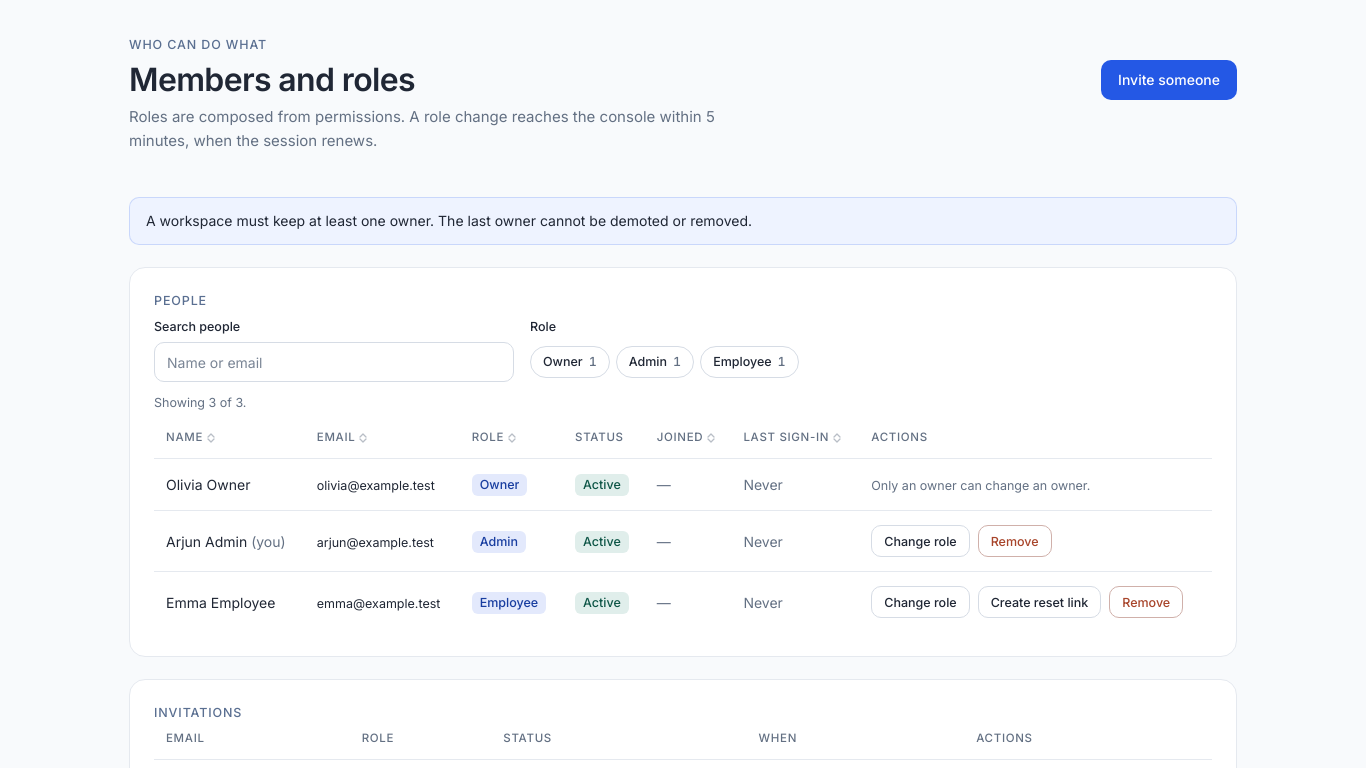
Test: Members as an administrator › says removal can be undone by inviting them again, and that their schedules pause
Expected: the text "Olivia Owner" is shown, 166,476 -> 250,493
Click the button with aria-label "Remove Emma Employee".
click(1146, 602)  # box 1109,586 -> 1183,618
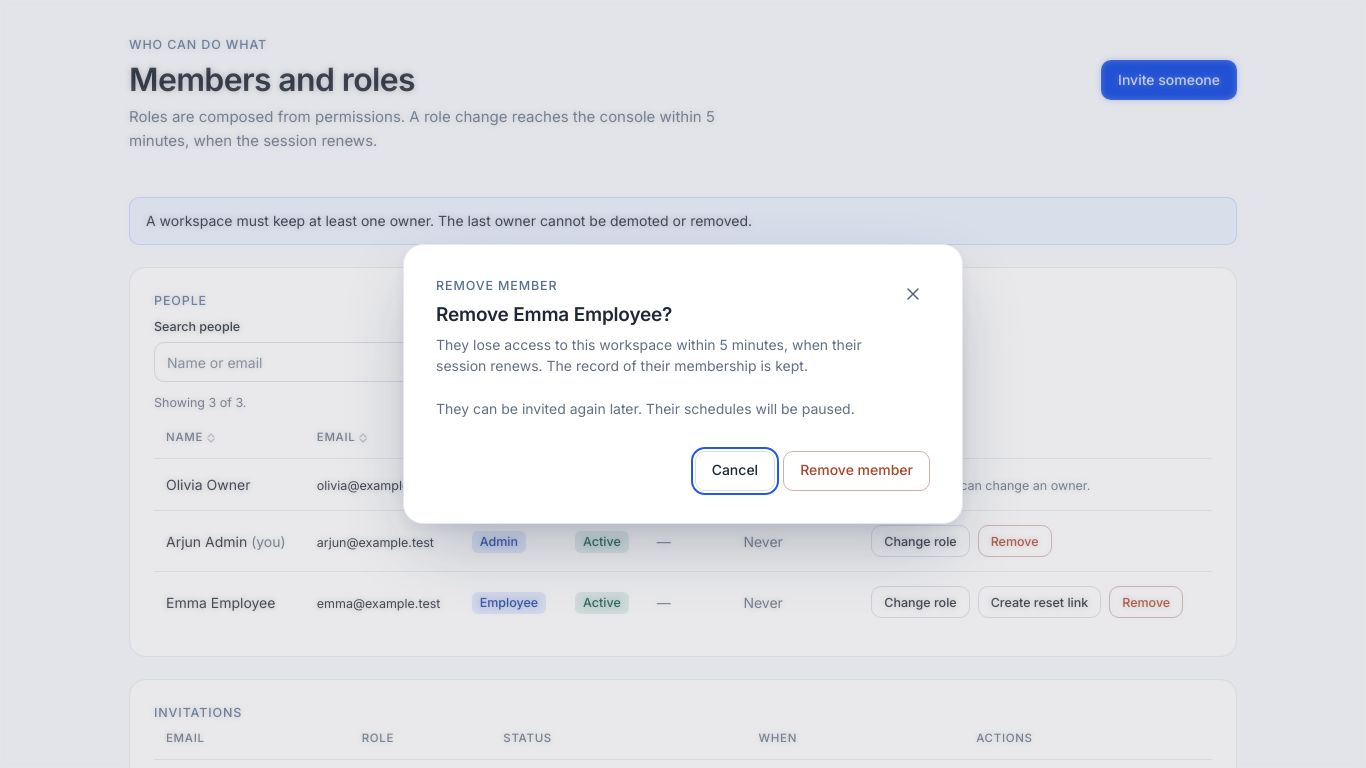
Now the text "They can be invited again later. Their schedules will be paused." is shown, box 436,400 -> 855,417
